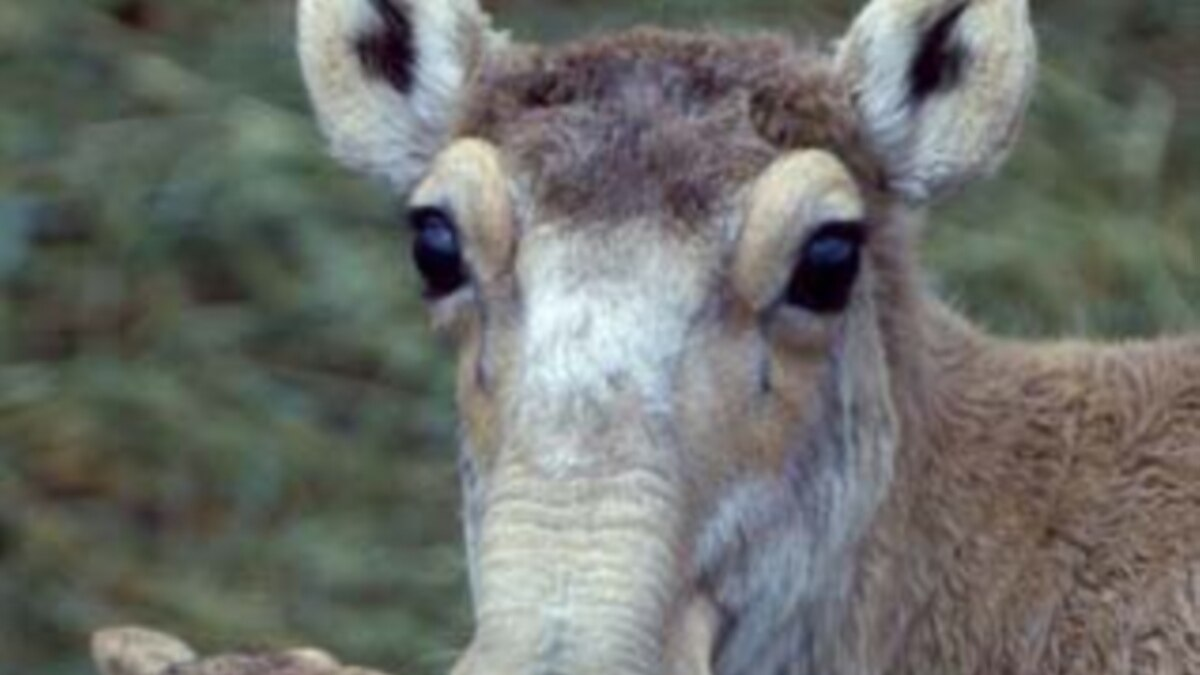saiga: (278, 2, 1196, 675)
